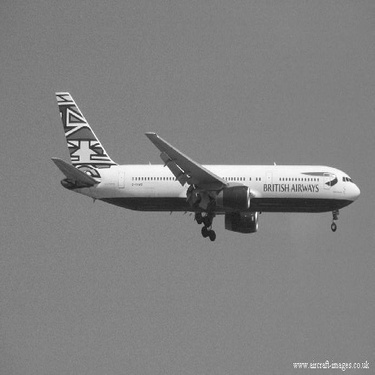airplane: (52, 90, 362, 240)
